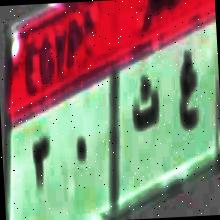0: (72, 131, 88, 176)
3: (28, 128, 54, 199)
ghayn: (172, 47, 203, 139)
thaa: (129, 70, 163, 148)
